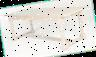Mesa: (3, 0, 92, 56)
